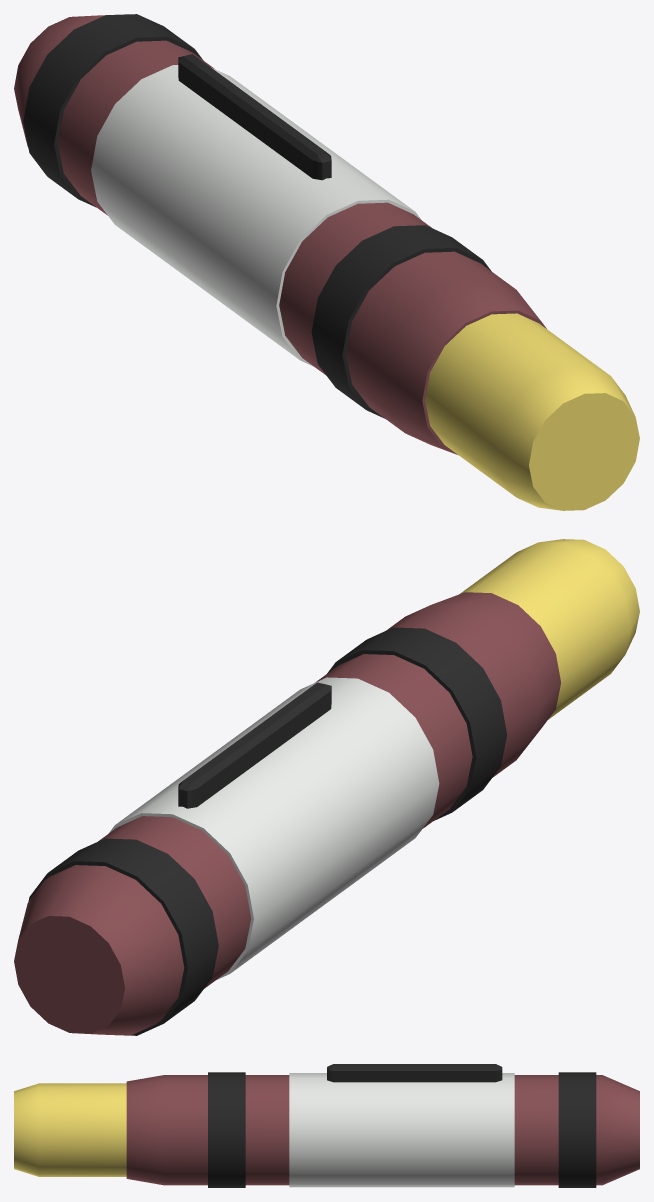
The model's file is regen_injector.glb.
3 renders of one model, top to bottom at view 1: azimuth 30°, elevation 25°; view 2: azimuth 150°, elevation 25°; view 3: azimuth 270°, elevation 25°, orthographic. The views are drawn at different scales.
Visible parts, largest first — view 1: body; view 2: body; view 3: body.
Boxes of the visible parts, x1=… form: body: x1=14, y1=14, x2=639, y2=510; body: x1=14, y1=539, x2=639, y2=1035; body: x1=14, y1=1064, x2=639, y2=1187.
Bounding box in the file's own units: 0.024 × 0.0269 × 0.13.
